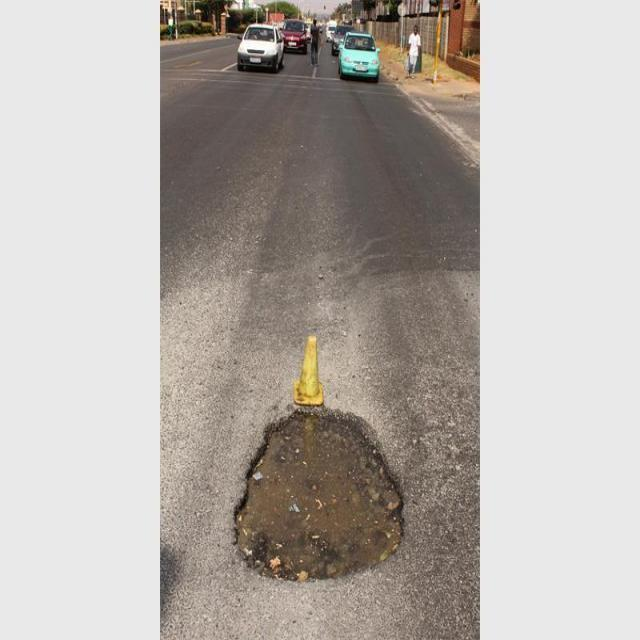Pothole: (234, 409, 403, 583)
